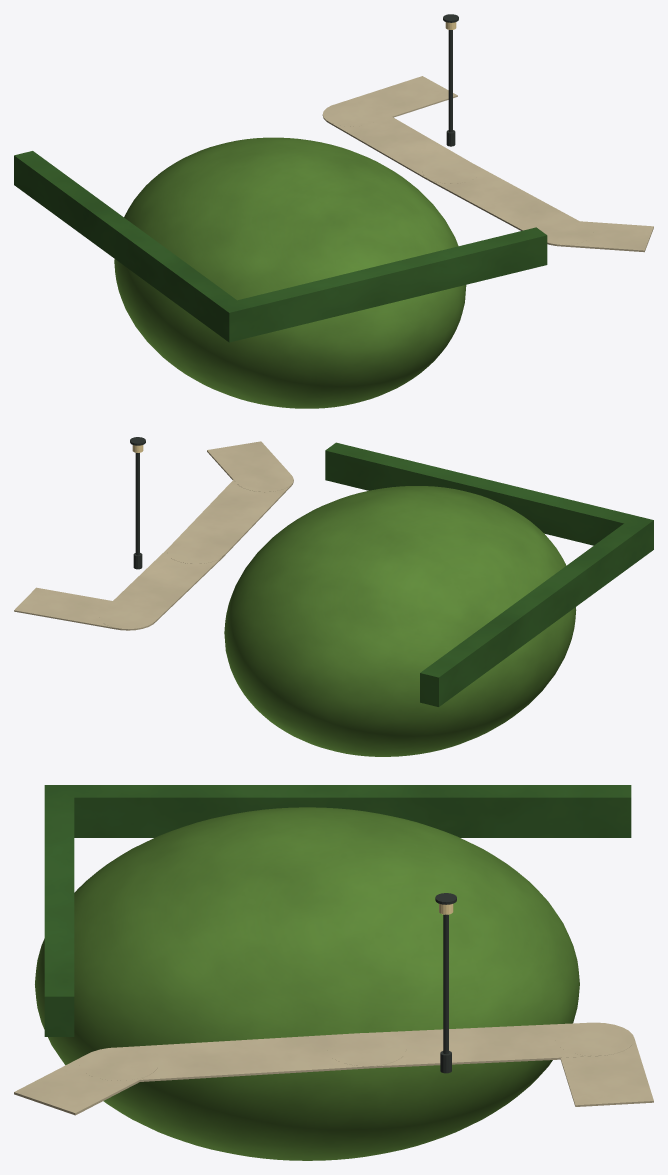
The model's file is dum_0c_park_kopec.glb.
3 renders of one model, top to bottom at view 1: azimuth 30°, elevation 25°; view 2: azimuth 150°, elevation 25°; view 3: azimuth 270°, elevation 25°, orthographic. The views are drawn at different scales.
Visible parts, largest first — view 1: dum; view 2: dum; view 3: dum.
Boxes of the visible parts, x1,y1,x2,y2 form: dum: (14, 14, 653, 408); dum: (14, 437, 653, 756); dum: (14, 785, 653, 1160).
Bounding box in the file's own units: 13.81 × 8.34 × 12.88.
Materials: 1 (1 with a texture image).
